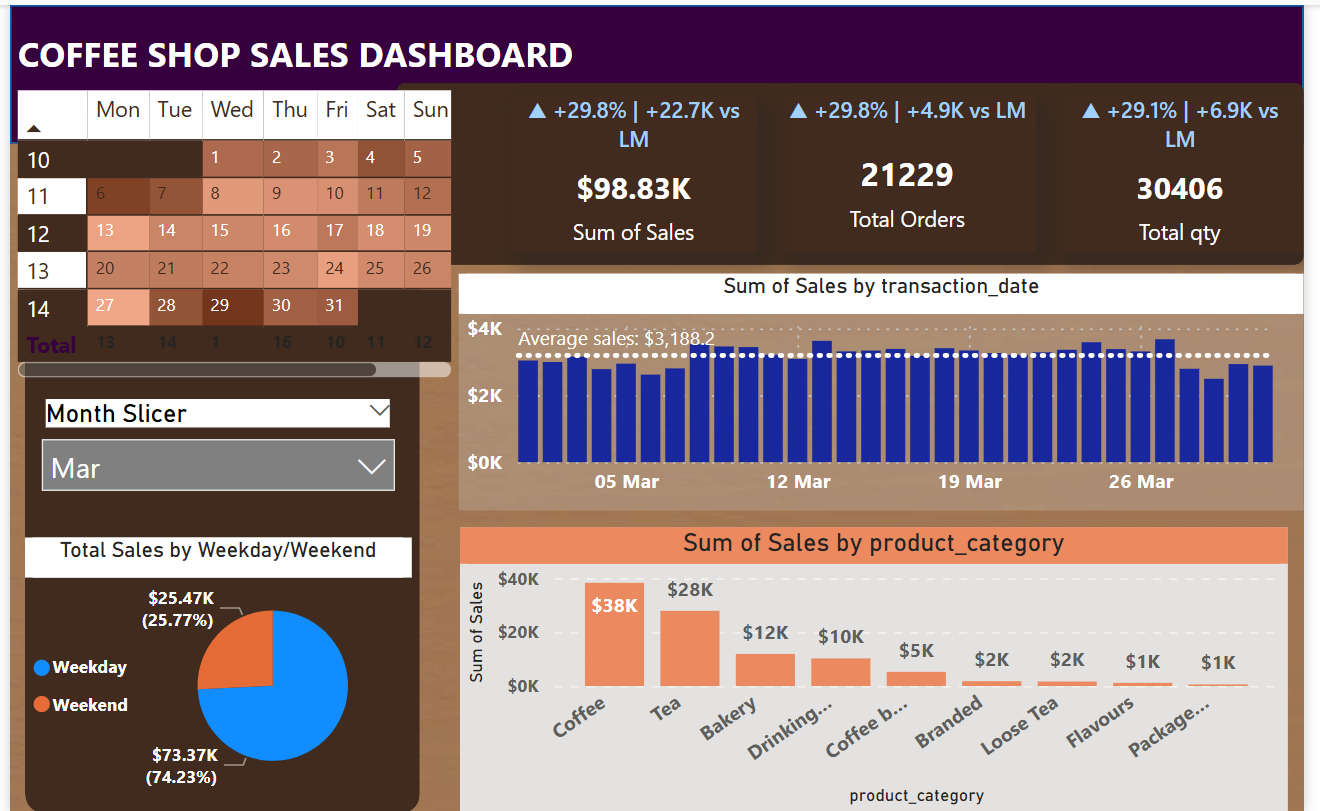

This screenshot's page, from the dashboard's own definition file:
{"tool":"powerbi","page":{"name":"Page 1","canvas":[800,500],"ordinal":0},"visuals":[{"type":"shape","box":[0,0,800.1,85.8],"z":0},{"type":"shape","box":[9.3,62.6,244.3,437.5],"z":1000},{"type":"shape","box":[238.9,47.9,561.2,112.9],"z":2000},{"type":"textbox","box":[0,10,541.1,45.6],"z":3000},{"type":"card","fields":{"Values":["Sum(Coffee Shop Sales.Sales)"]},"box":[309.2,55.7,153.1,97.4],"z":4000},{"type":"card","fields":{"Values":["Coffee Shop Sales.Total Orders"]},"box":[475.4,55.7,159.2,97.4],"z":5001},{"type":"card","fields":{"Values":["Coffee Shop Sales.Total qty"]},"box":[647,55.7,153.1,97.4],"z":5002},{"type":"pivotTable","fields":{"Rows":["Date Table.Week number"],"Columns":["Date Table.Day Name"],"Values":["Min(Date Table.Day number)"]},"box":[0,47.9,277.5,187.1],"z":5003},{"type":"pieChart","fields":{"Category":["Date Table.Weekday/Weekend"],"Y":["Coffee Shop Sales.Total Sales"]},"box":[9.3,329.3,238.9,163.1],"z":5005},{"type":"slicer","fields":{"Values":["Date Table.Month"]},"box":[9.3,238.9,238.9,84.3],"z":5006},{"type":"columnChart","fields":{"Category":["Coffee Shop Sales.transaction_date"],"Y":["Sum(Coffee Shop Sales.Sales)"]},"box":[277.5,166.2,522.6,146.1],"z":5007},{"type":"columnChart","fields":{"Category":["Coffee Shop Sales.product_category"],"Y":["Sum(Coffee Shop Sales.Sales)"]},"box":[278.3,323.1,511.8,177],"z":5008}]}

Visuals, with their boxes in screenshot pixels (x1, y1, x2, y2), scaled from the page's 800x500 canvas onto the 1320x811 screenshot:
shape: 0:0:1319:139
shape: 15:102:418:810
shape: 394:78:1319:261
textbox: 0:16:893:90
card - Sum(Coffee Shop Sales.Sales): 510:90:763:248
card - Coffee Shop Sales.Total Orders: 784:90:1047:248
card - Coffee Shop Sales.Total qty: 1068:90:1319:248
pivotTable - Date Table.Week number x Date Table.Day Name: 0:78:458:381
pieChart - Date Table.Weekday/Weekend x Coffee Shop Sales.Total Sales: 15:534:410:799
slicer - Date Table.Month: 15:387:410:524
columnChart - Coffee Shop Sales.transaction_date x Sum(Coffee Shop Sales.Sales): 458:270:1319:507
columnChart - Coffee Shop Sales.product_category x Sum(Coffee Shop Sales.Sales): 459:524:1304:810
